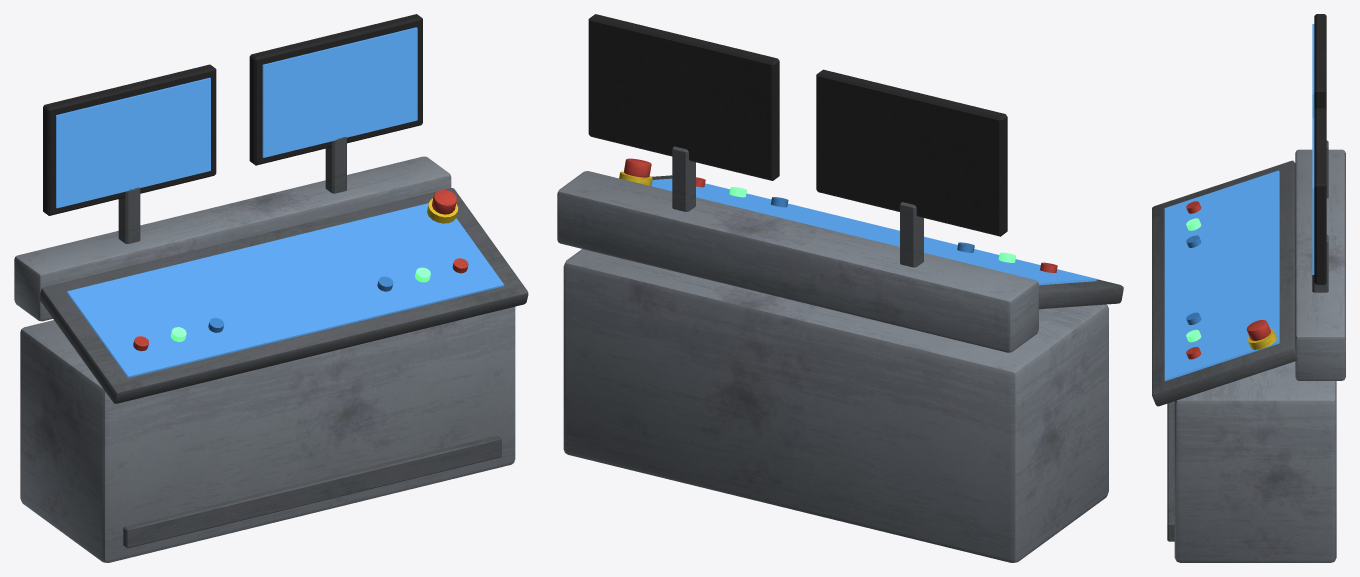
Rendered from control_desk.glb.
3 renders of one model, left to right at view 1: azimuth 30°, elevation 25°; view 2: azimuth 150°, elevation 25°; view 3: azimuth 270°, elevation 25°, orthographic. The views are drawn at different scales.
Parts seen in each view (by area): view 1: ControlDesk_geo, panelScreen, panel_geo, monitor_2, monitor_1; view 2: ControlDesk_geo, panelScreen, panel_geo; view 3: ControlDesk_geo, panelScreen, panel_geo, monitor_2, monitor_1.
Boxes of the visible parts, left/top/right/bottom form: ControlDesk_geo: left=14, top=14, right=515, bottom=562; panelScreen: left=67, top=203, right=503, bottom=377; panel_geo: left=39, top=188, right=528, bottom=403; monitor_2: left=262, top=27, right=417, bottom=157; monitor_1: left=56, top=77, right=210, bottom=208; ControlDesk_geo: left=557, top=14, right=1108, bottom=562; panelScreen: left=651, top=178, right=1096, bottom=285; panel_geo: left=619, top=158, right=1123, bottom=309; ControlDesk_geo: left=1167, top=14, right=1345, bottom=562; panelScreen: left=1164, top=170, right=1279, bottom=380; panel_geo: left=1152, top=160, right=1297, bottom=406; monitor_2: left=1312, top=118, right=1314, bottom=274; monitor_1: left=1312, top=24, right=1314, bottom=118.
Size of the model in its own units: 2.2 by 2.03 by 0.9558.
Materials: 8 (5 with a texture image).
